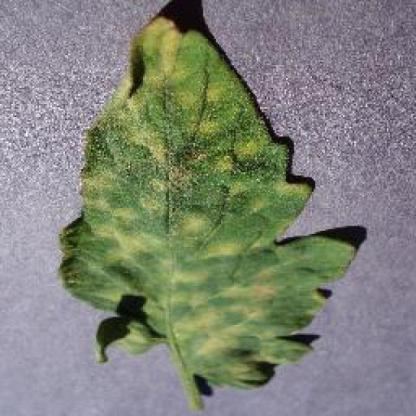Tomato_Leaf_Mold: (58, 18, 356, 386)
